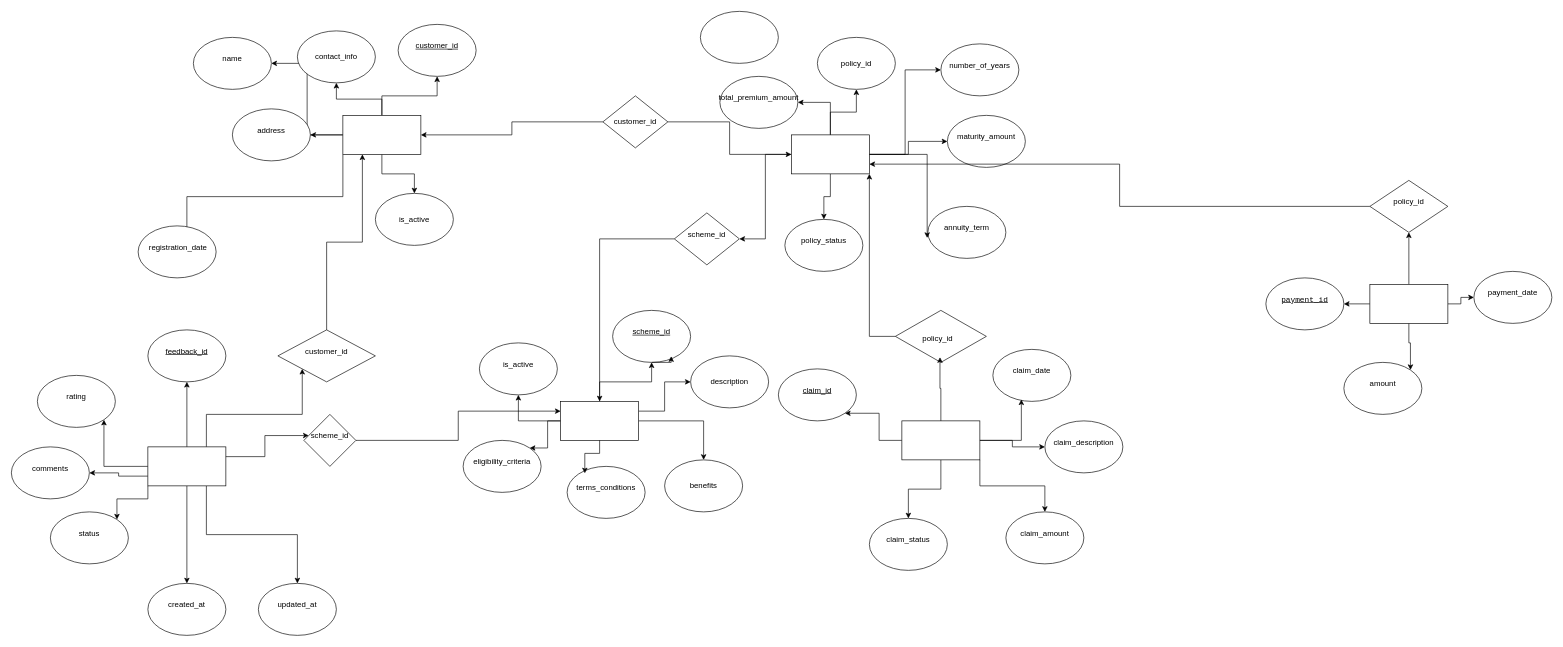
Image size: 1563x647. Some labels were removed from this diagram. The shapes that lost their labels are listed below. From the top down, each one's box as (x1, y1, x2, y2) in pixels, then its label:
(700, 11, 778, 63): start_date
(342, 115, 421, 154): Customer
(791, 134, 869, 174): Policy
(1369, 284, 1448, 323): Payment
(560, 401, 639, 440): Scheme
(901, 420, 980, 460): Claim
(147, 446, 226, 486): Feedback
